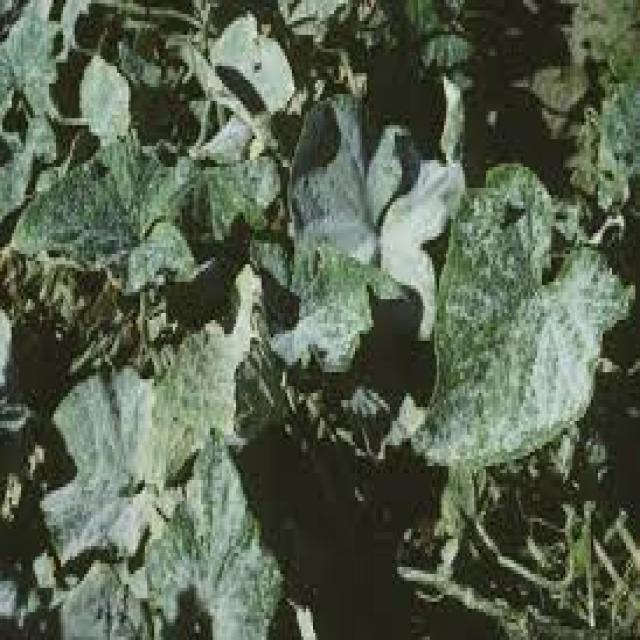powdery-mildew: (94, 386, 246, 620), (466, 205, 578, 412), (311, 128, 450, 276)
